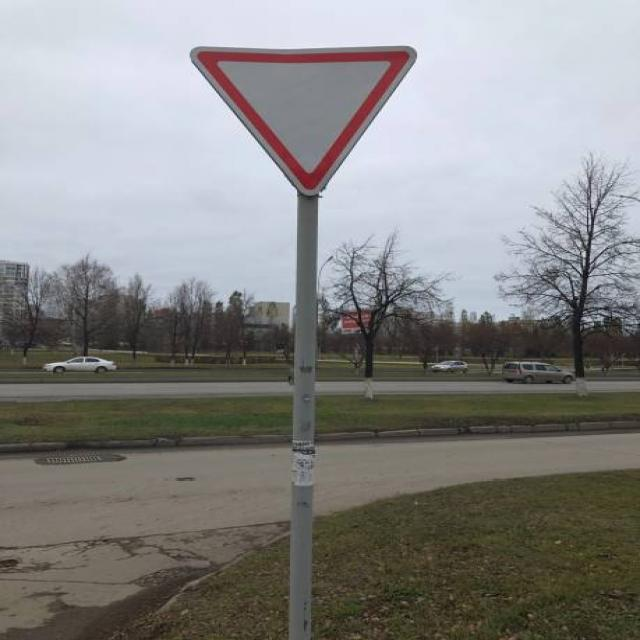give_way: (184, 38, 460, 198)
